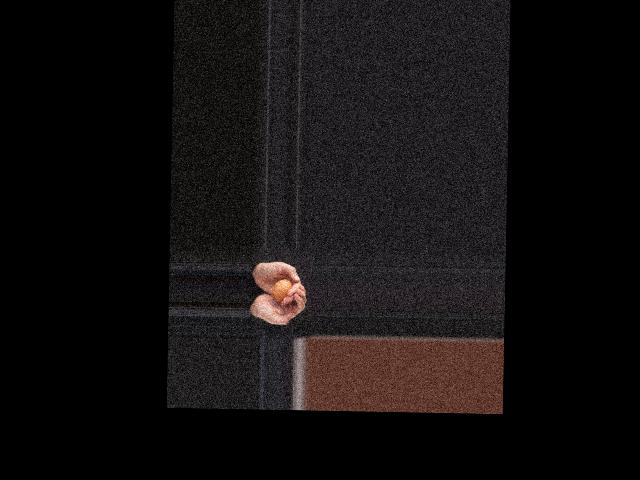egg: (271, 279, 292, 303)
